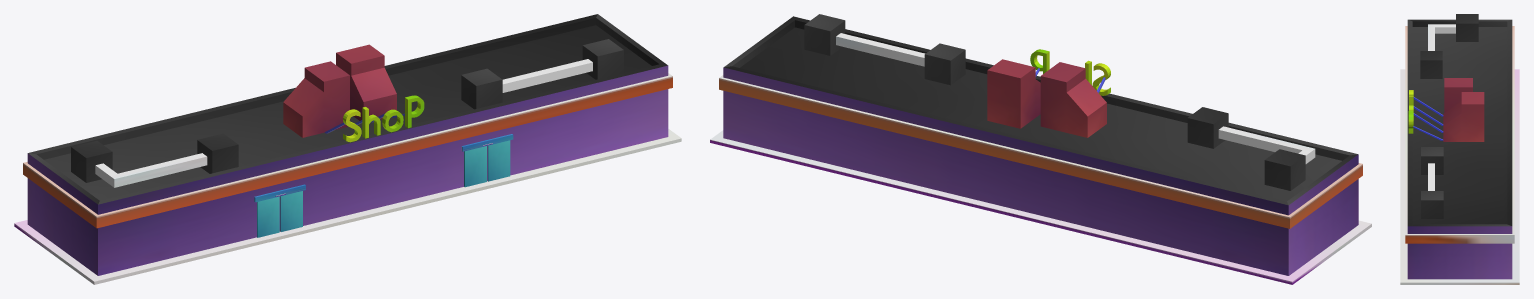
File: Shop_1.glb
3 views of the same model, side by side, from view 1: azimuth 30°, elevation 25°; view 2: azimuth 150°, elevation 25°; view 3: azimuth 270°, elevation 25° (orthographic). The views are drawn at different scales.
Parts seen in each view (by area): view 1: Shop_1; view 2: Shop_1; view 3: Shop_1.
Part boxes in pixels (bbox=[...]): Shop_1: bbox=[14, 14, 681, 284]; Shop_1: bbox=[710, 14, 1371, 284]; Shop_1: bbox=[1400, 14, 1519, 284].
Bounding box in the file's own units: 4479 × 862 × 1058.
1 material, 1 textured.
